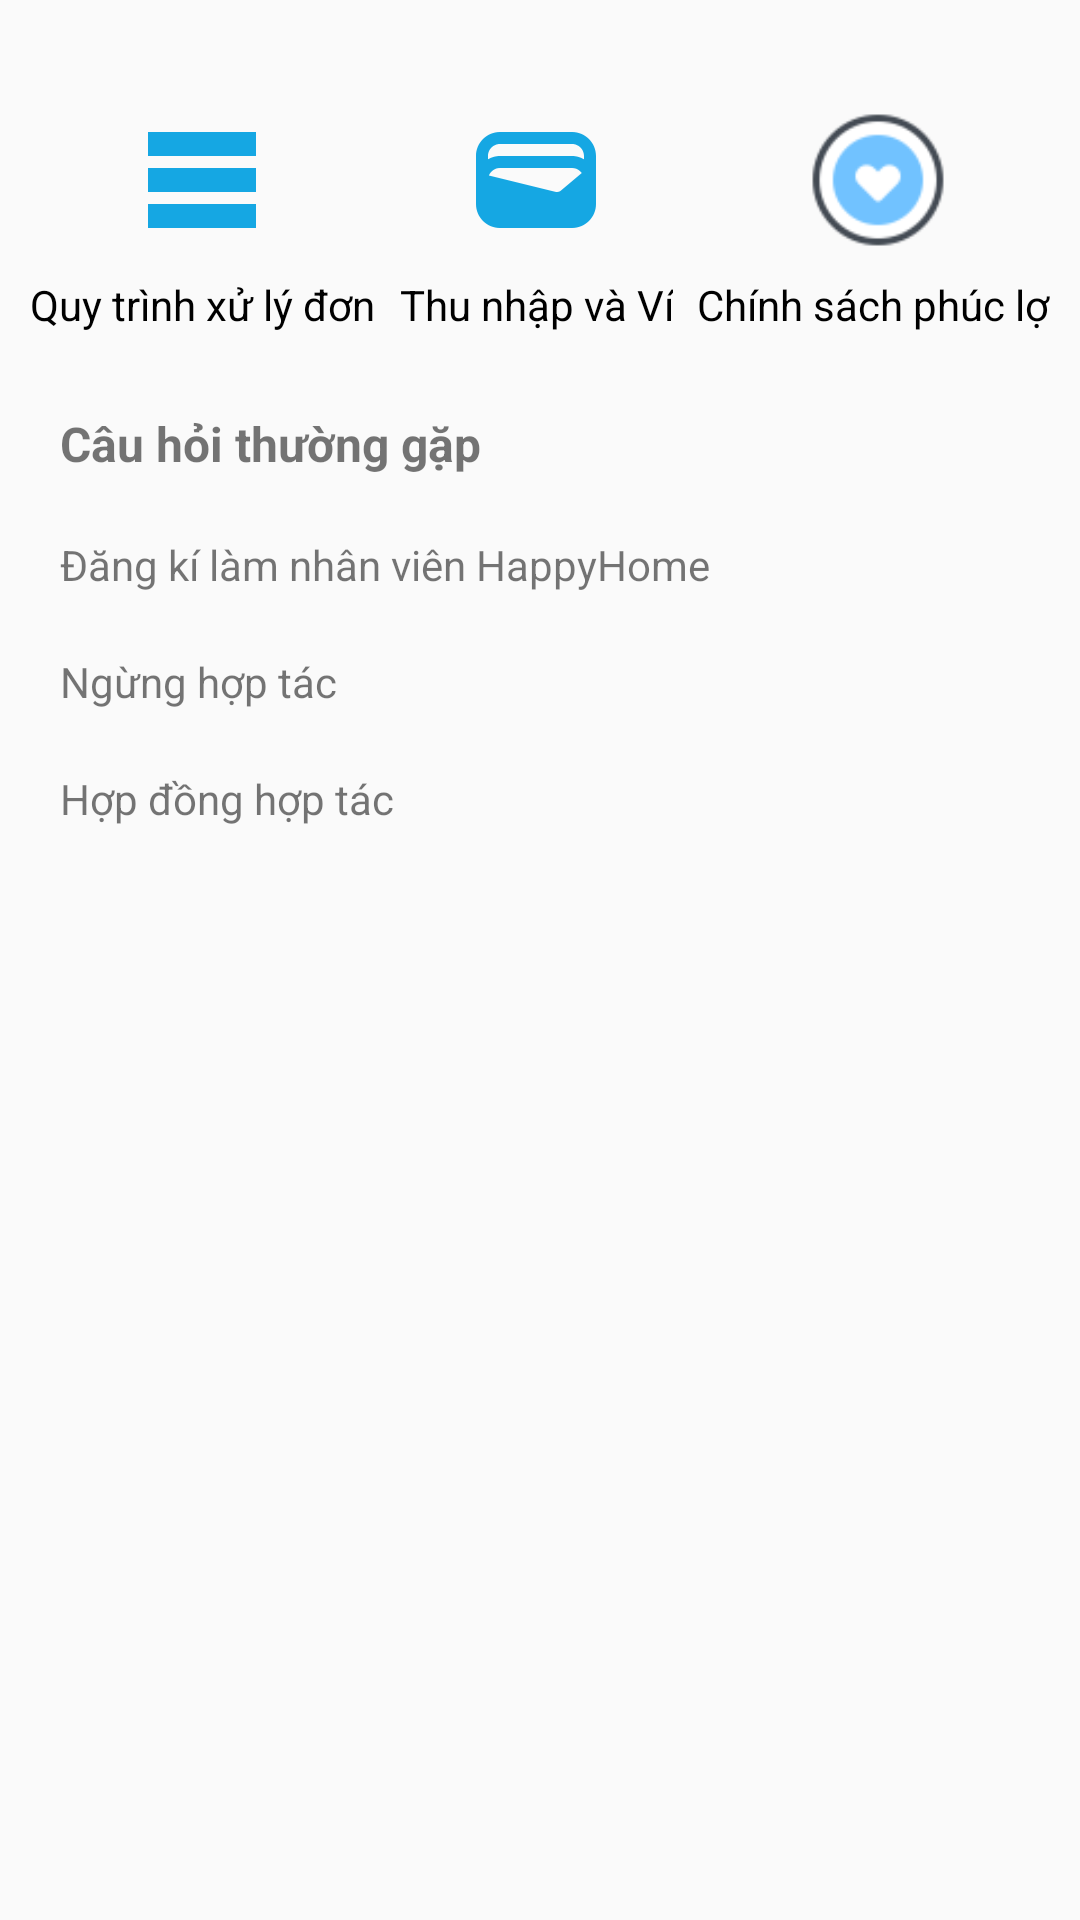

Point at icon controls on the screen. Image size 1080 x 1920, points as (x=x, y=y).
heart: (x=878, y=180)
wallet: (x=536, y=180)
